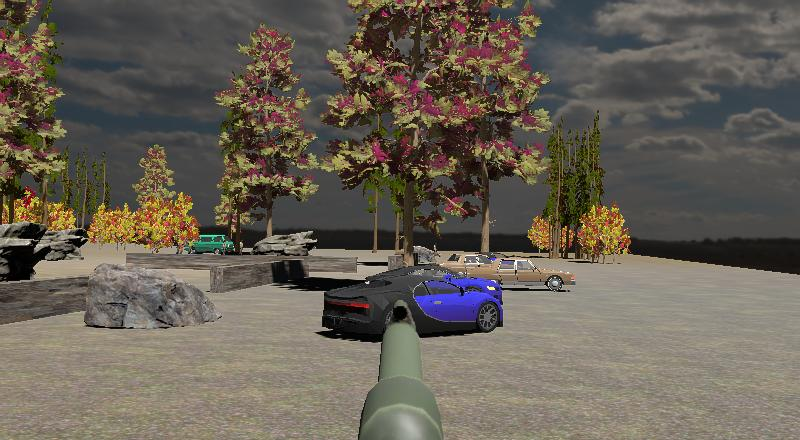car: (320, 267, 505, 338), (476, 256, 577, 292), (385, 244, 439, 272), (435, 252, 500, 275), (190, 234, 236, 257)
